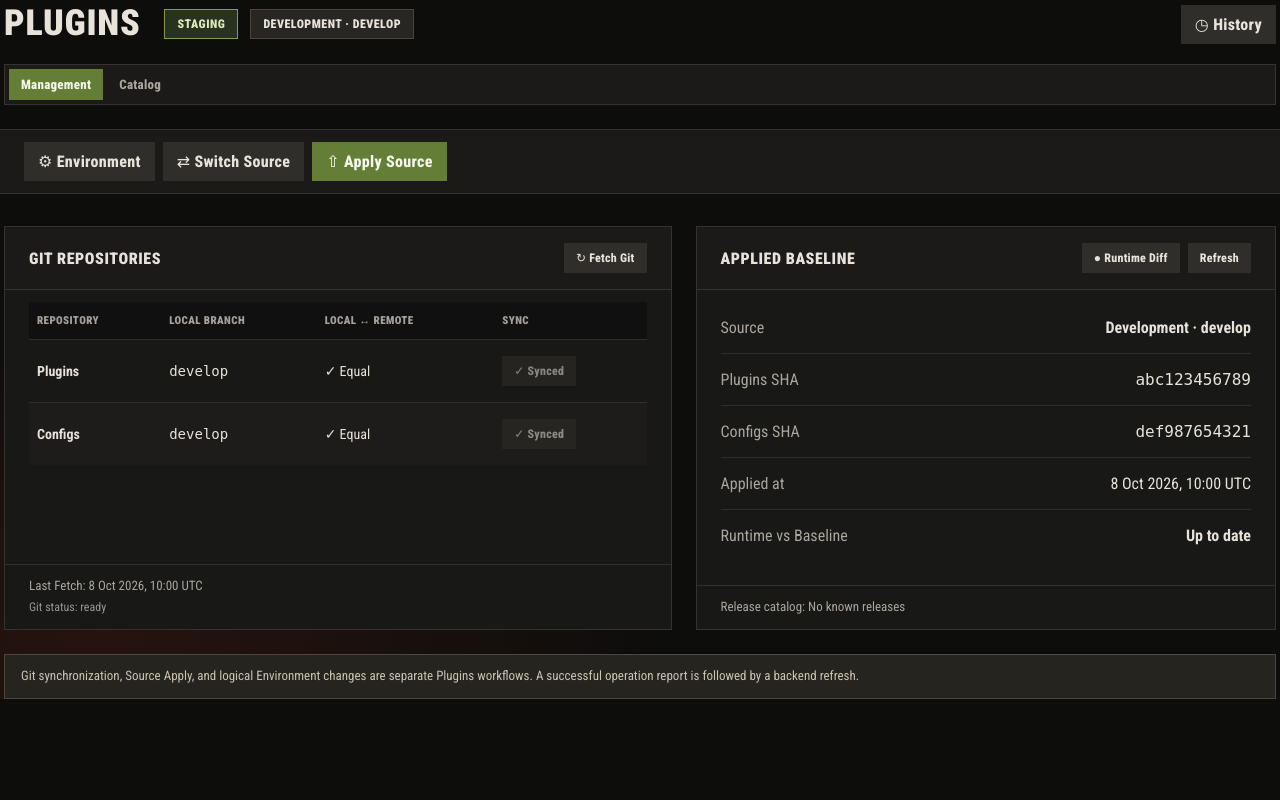
Scenario: Plugins management workflows › keeps the Environment dialog open and exposes an API conflict
Click the button "⚙ Environment". click: (89, 162)
box: [24, 142, 155, 181]
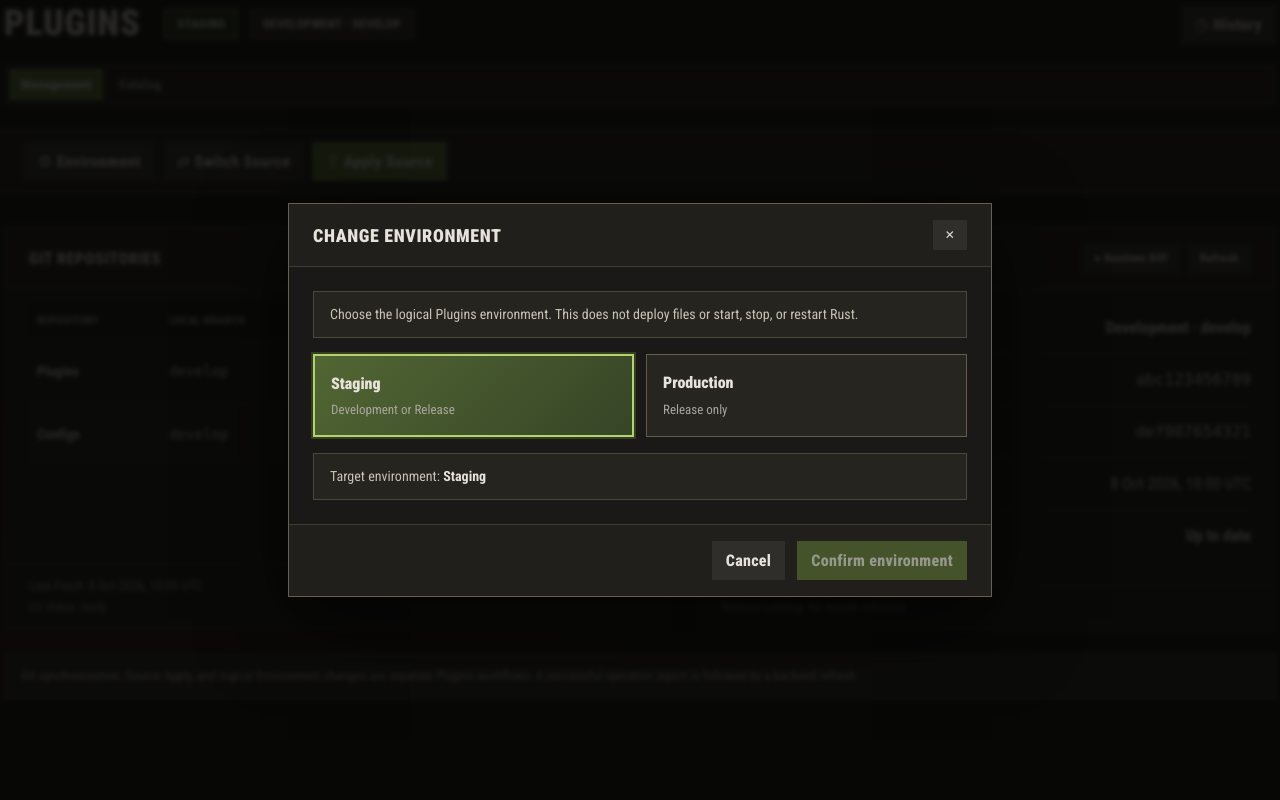
Click the button "Production Release only". click: (698, 382)
box: [646, 354, 967, 437]
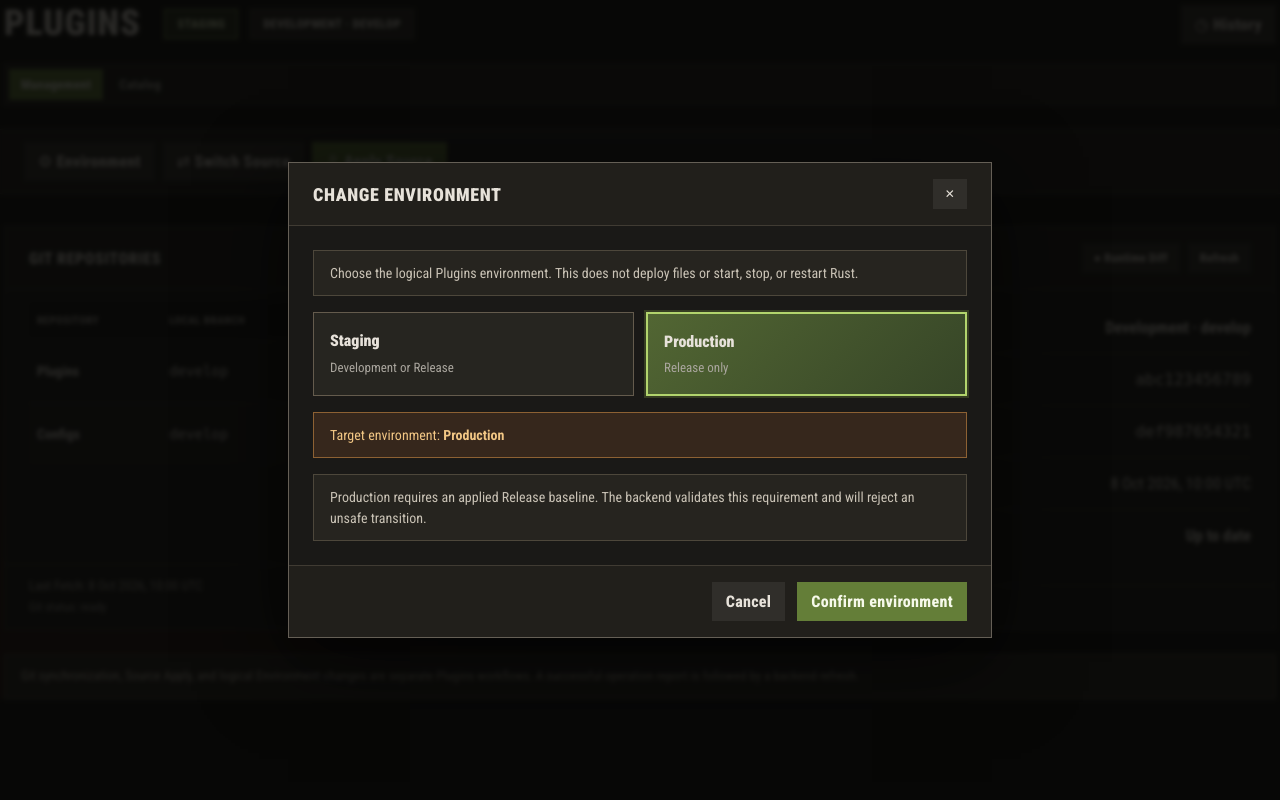
Click the button "Confirm environment". click: (882, 601)
box: [797, 582, 967, 621]
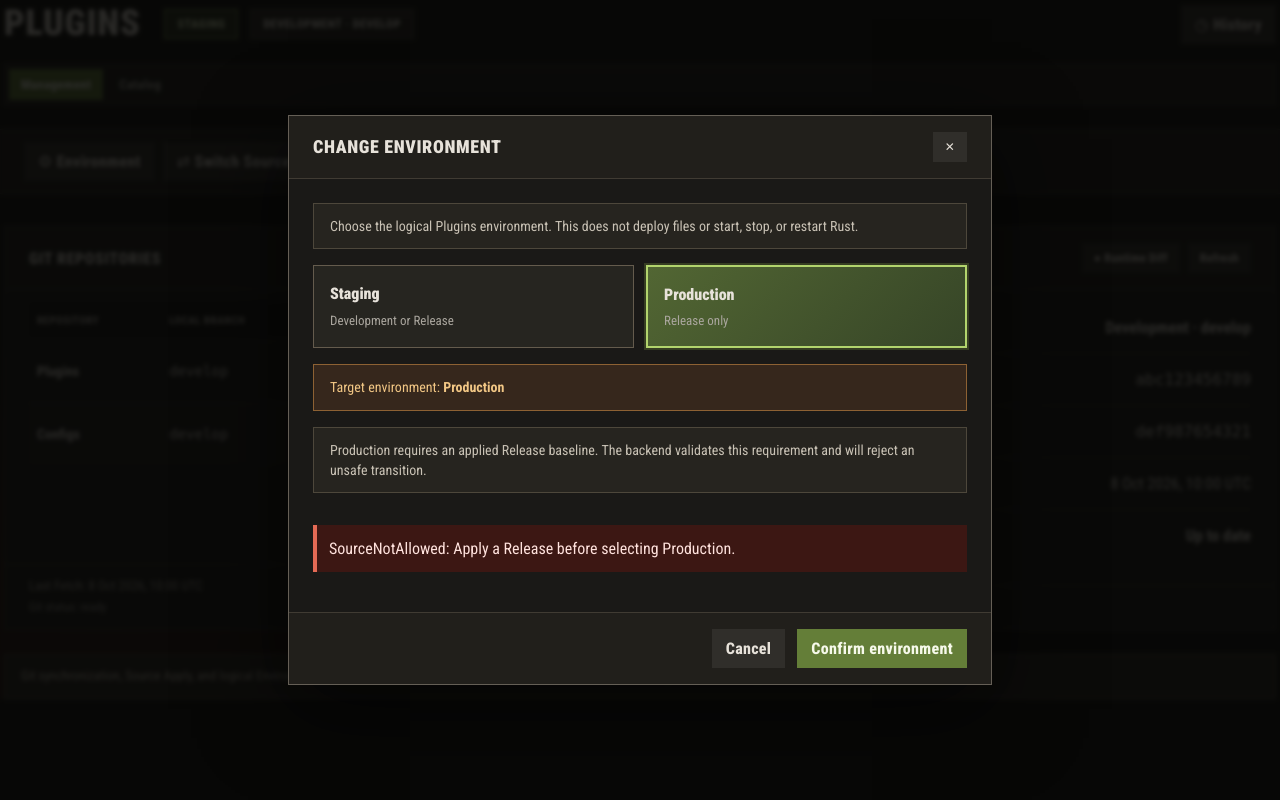
Expected: the dialog "Change Environment" is shown, [288, 115, 992, 686]
Expected: the message reads "SourceNotAllowed: Apply a Release before selecting Production.", [329, 539, 735, 558]
